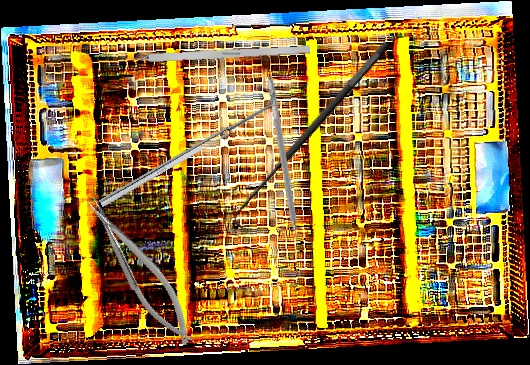Hook Surgical: (223, 38, 405, 235), (111, 44, 311, 65)
Needle Holder: (78, 186, 204, 355)
Spatula Surgical: (94, 90, 282, 208), (258, 78, 306, 259)
